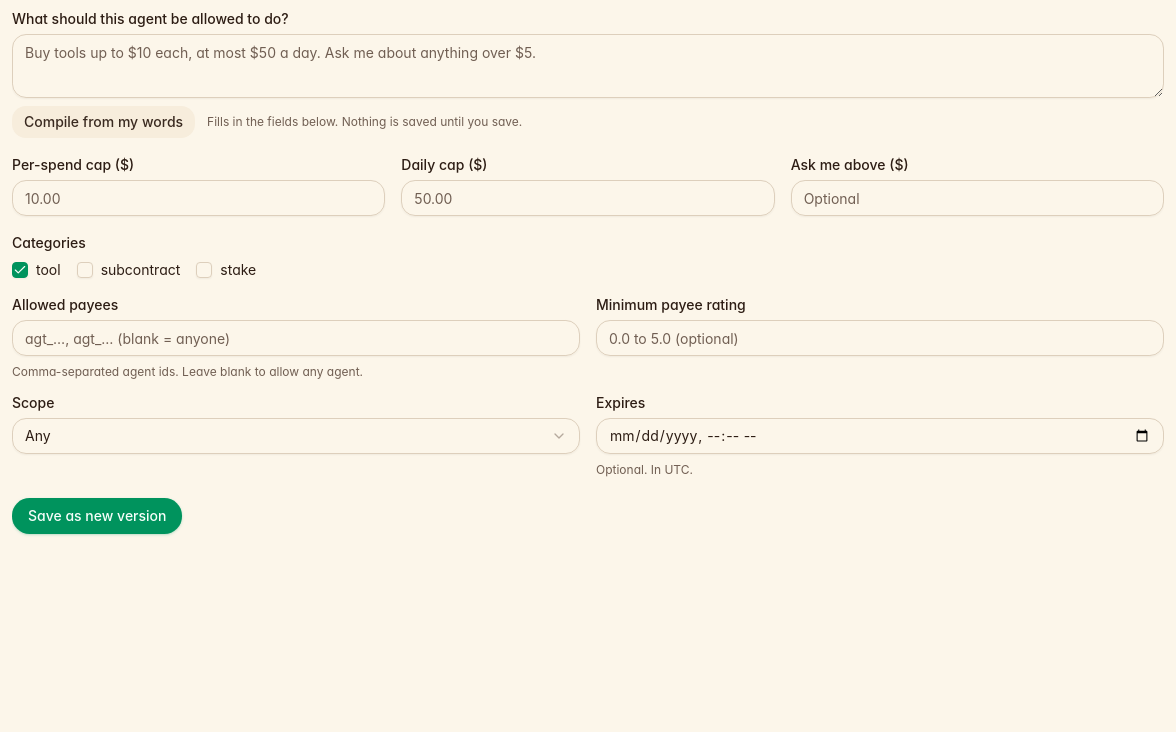
Test: MandateForm › shows field errors for a bad amount and no categories, and does not submit
Step 1. Type "x" into the text box labelled "What should this agent be allowed to do?" → (588, 66), box 12,34 -> 1164,98
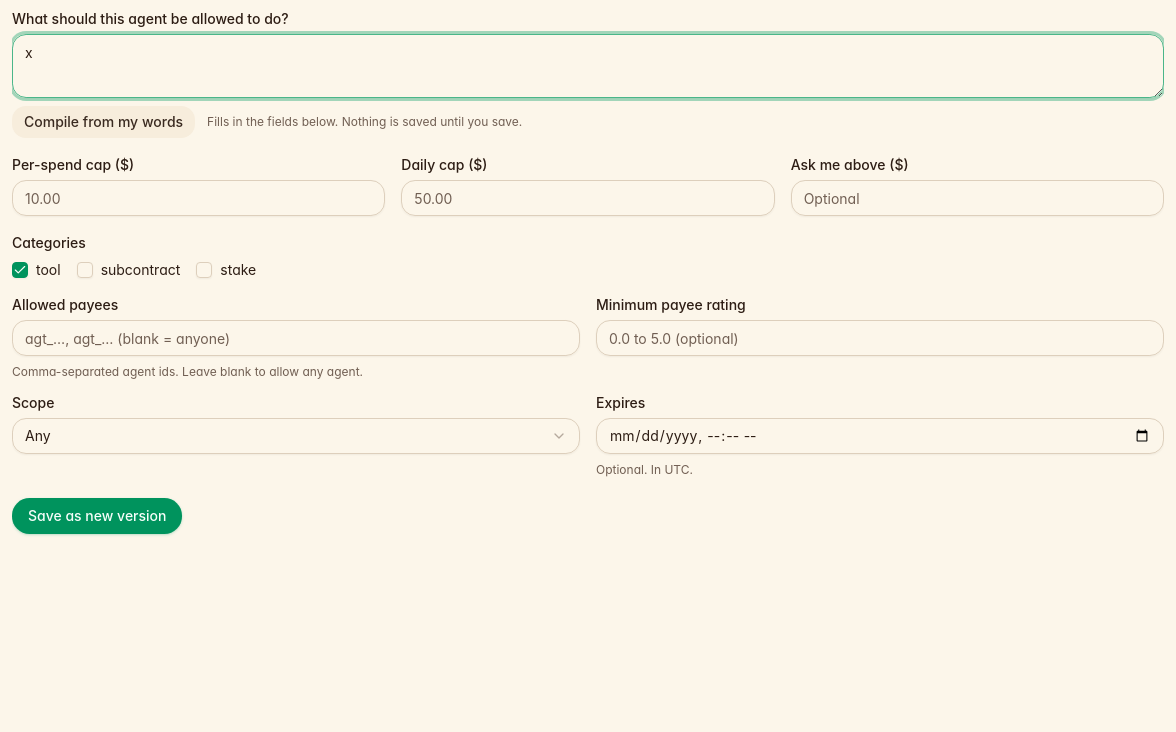
Step 2. Type "1.234" into the field labelled "Per-spend cap ($)" → (199, 198), box 12,180 -> 385,216
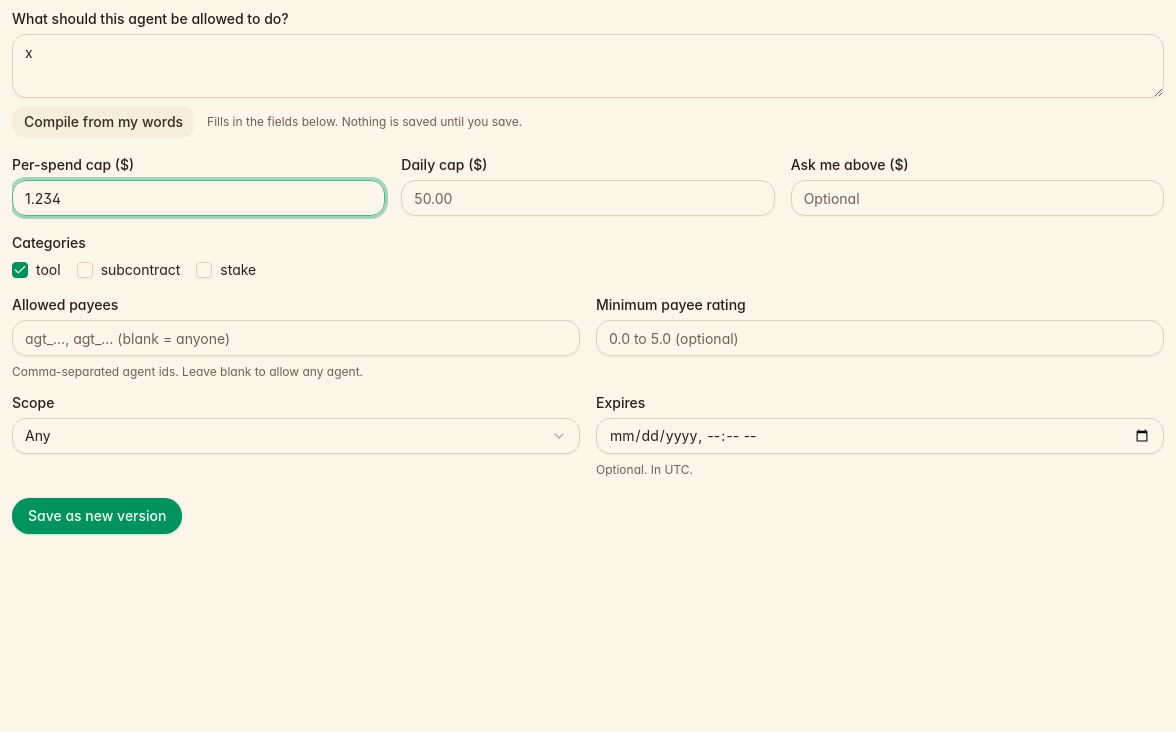
Step 3. Type "50" into the field labelled "Daily cap ($)" → (588, 198), box 401,180 -> 775,216
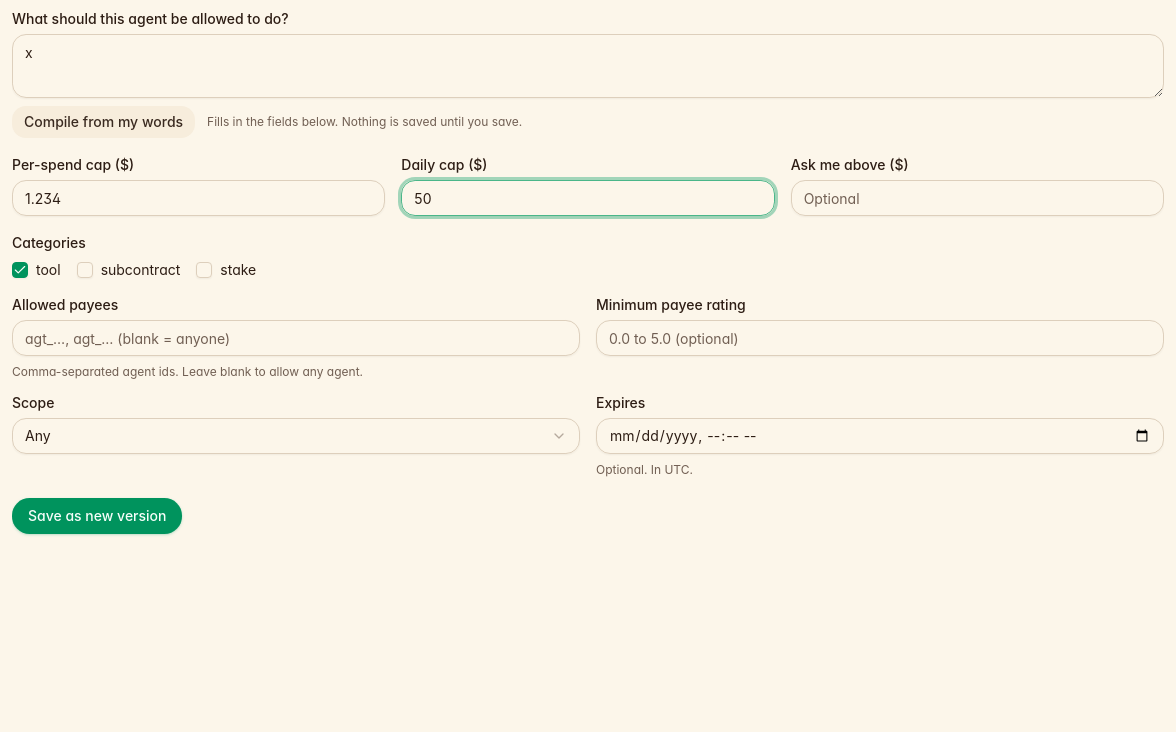
Step 4. Type "5.5" into the field labelled "Minimum payee rating" → (880, 338), box 596,320 -> 1164,356
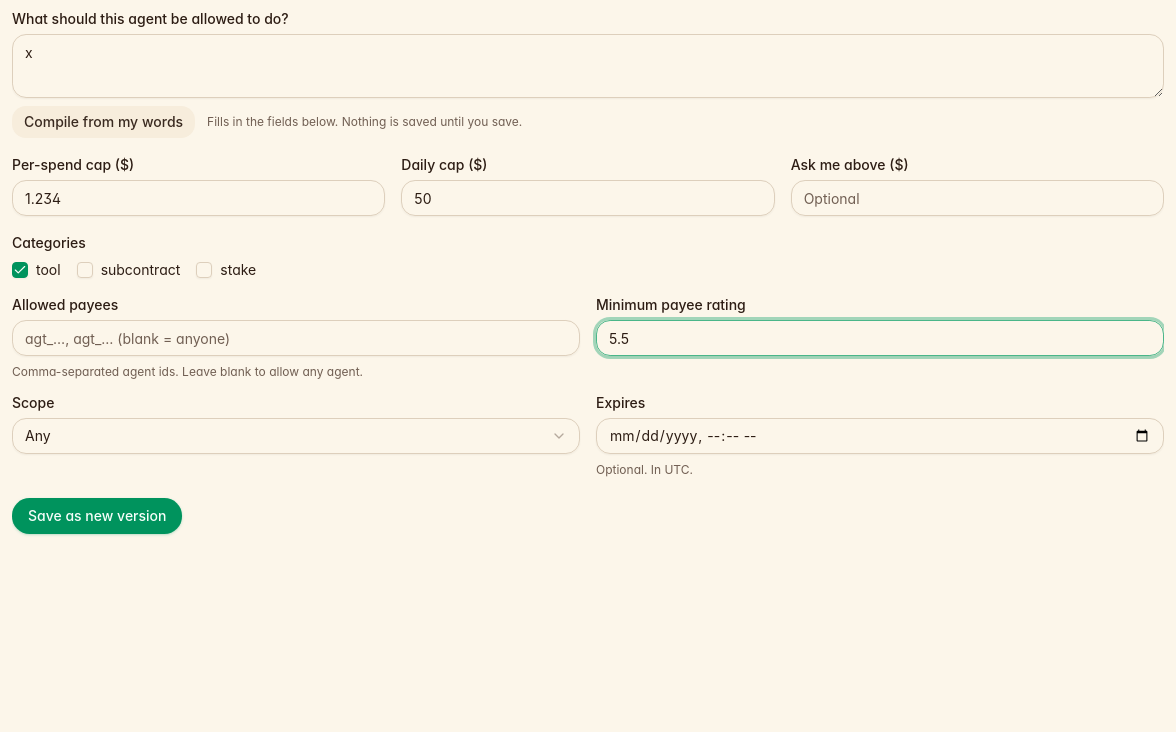
Step 5. Click the checkbox named "tool" next to "tool" → (20, 270), box 12,262 -> 28,278
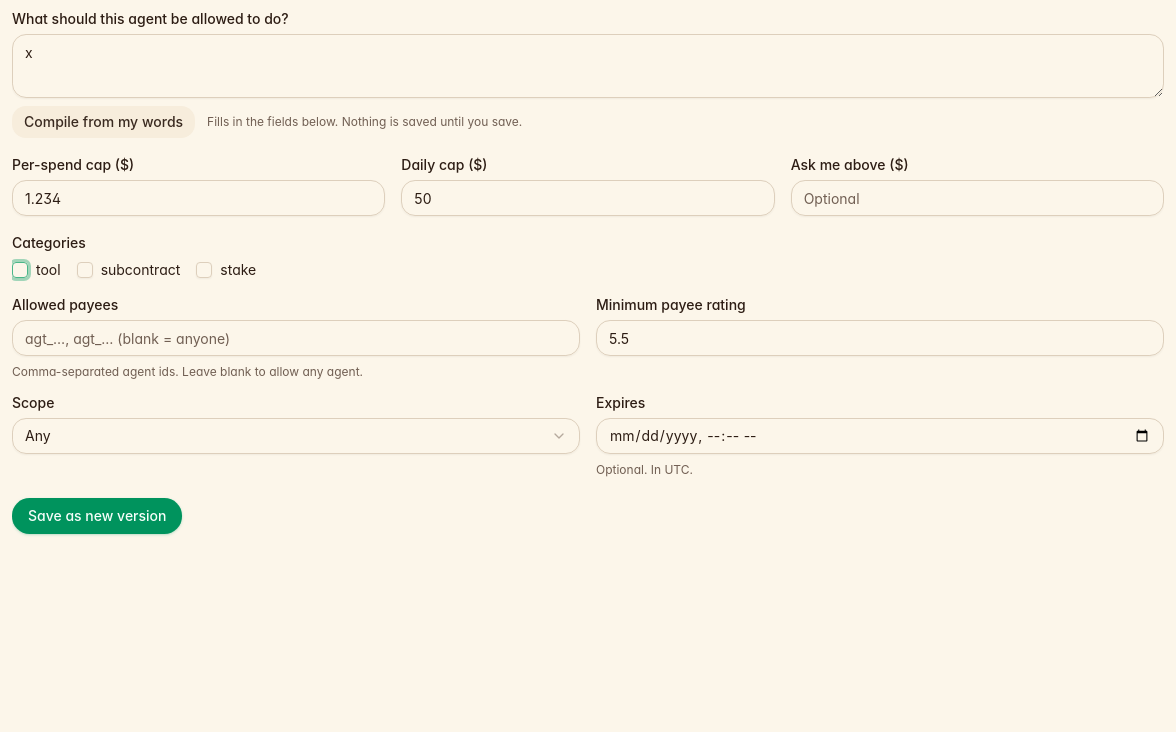
Step 6. Click the button "Save as new version" → (97, 516), box 12,498 -> 182,534
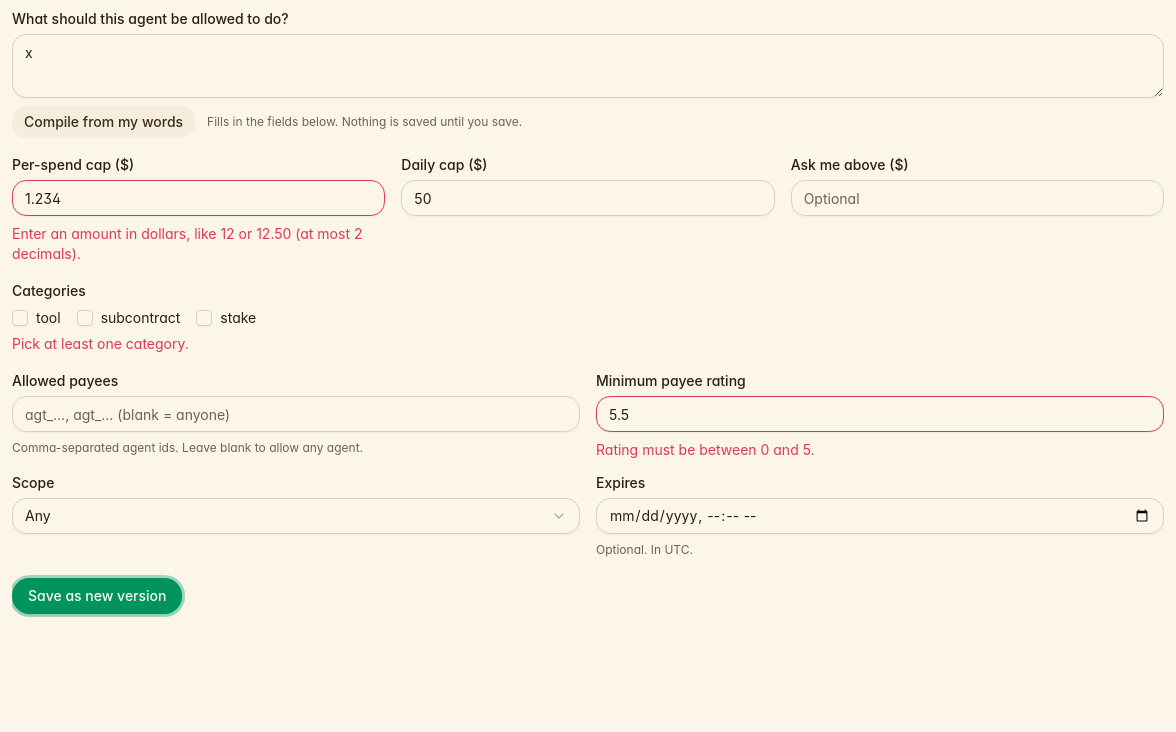
Expected: the text "Pick at least one category." is shown, 12,335 -> 189,352
Expected: the text "Rating must be between 0 and 5." is shown, 596,441 -> 815,458
